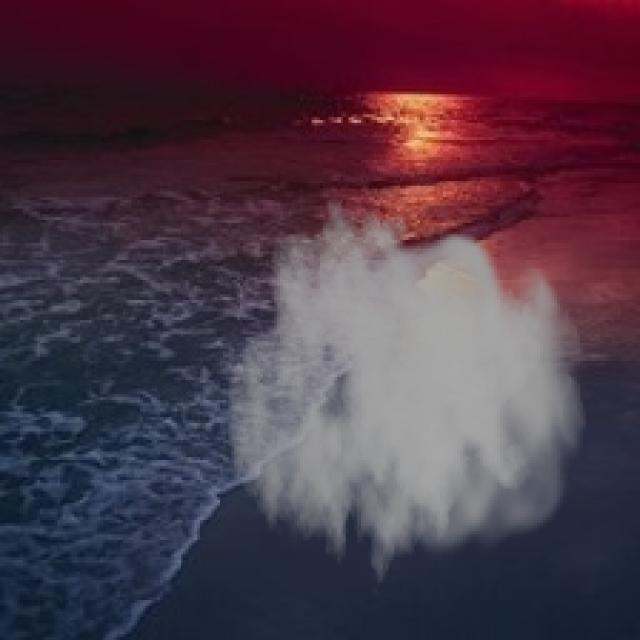Smoke: (225, 197, 586, 603)
